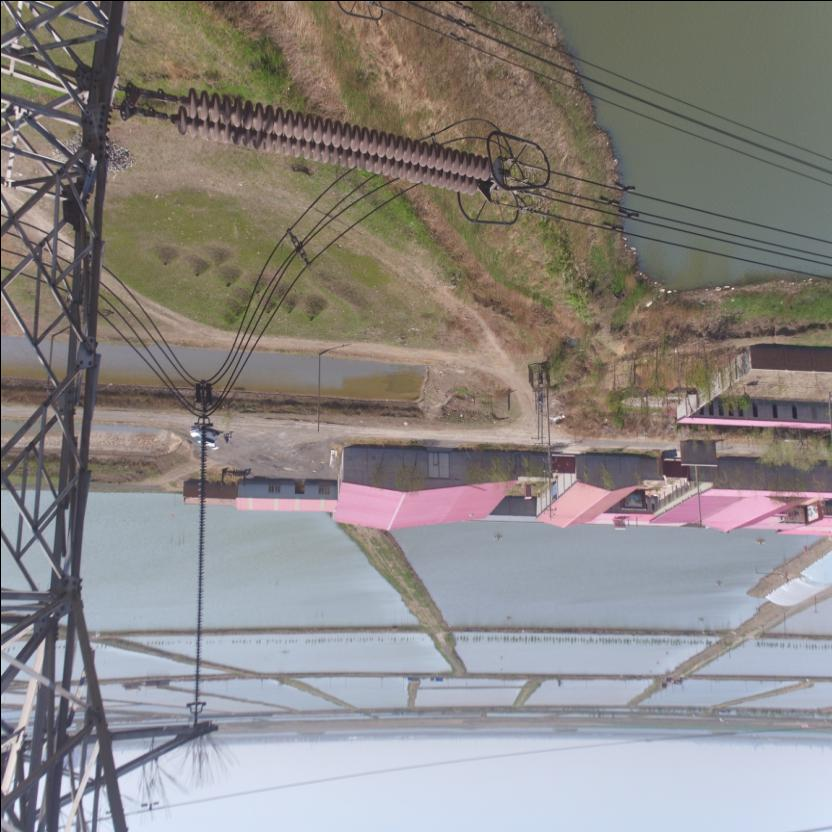insulator: (161, 88, 493, 198)
